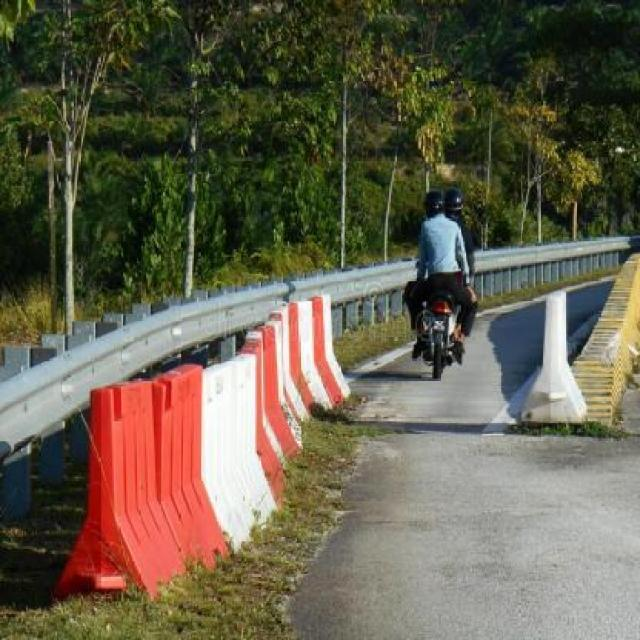fallen_object: (46, 347, 227, 572), (215, 286, 358, 443), (197, 346, 277, 522), (525, 290, 586, 432)
